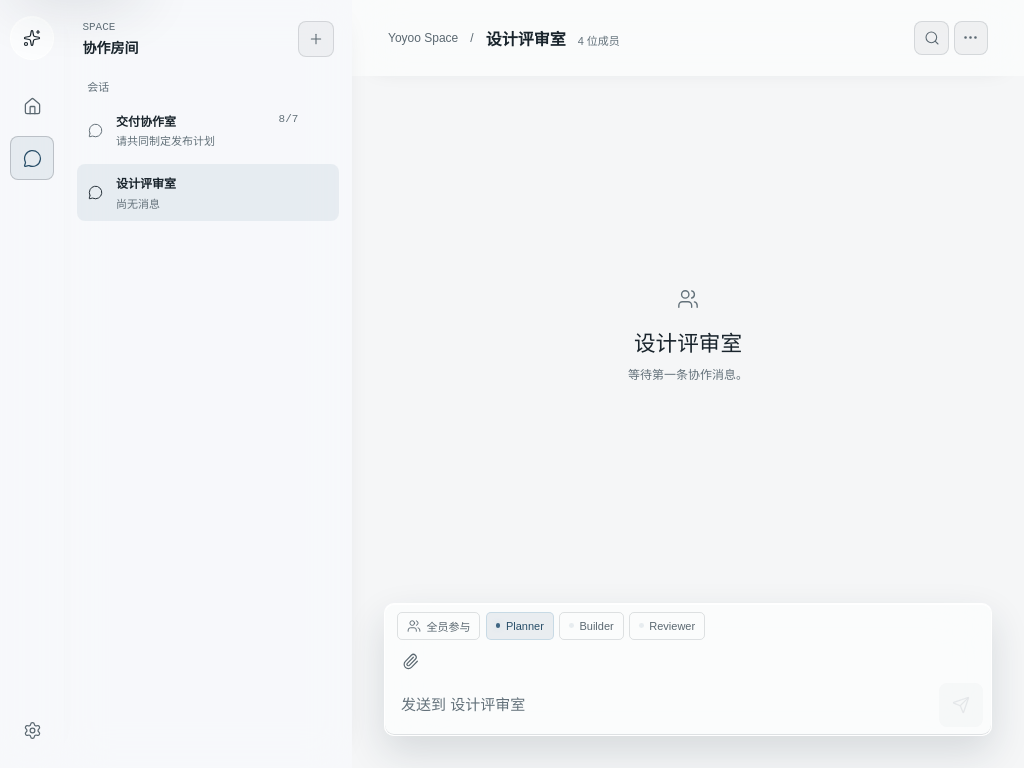
Test: CollaborationRoom › restores the selected room from the URL and switches rooms without a reload
Expected: the heading "设计评审室" in the row of "位成员" is shown, [486,26,566,50]
Step 1. Click the button with aria-label "切换到交付协作室" → (192, 130), box [77,101,307,159]
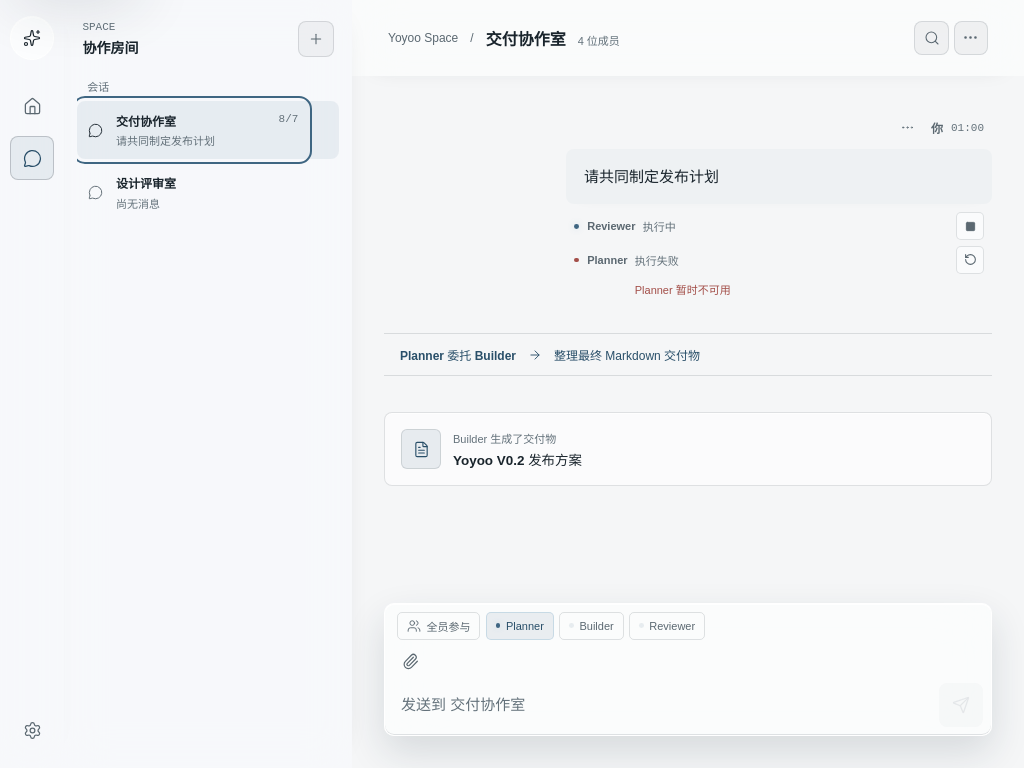
Result: the heading "交付协作室" is shown at [486,26,566,50]
